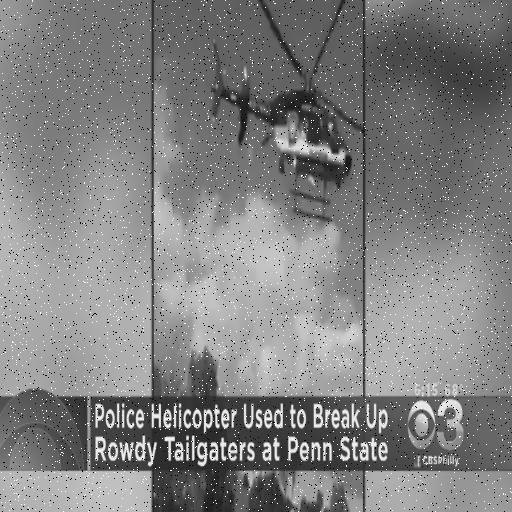helicopter: (204, 1, 362, 224)
